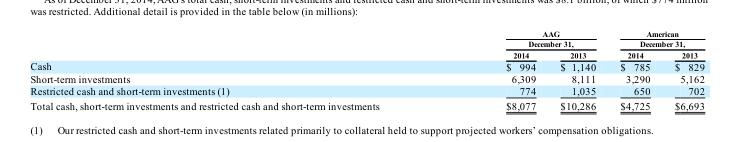table: (29, 28, 703, 110)
table column: (29, 28, 442, 110), (442, 28, 547, 110), (547, 28, 607, 110), (607, 28, 661, 110), (661, 28, 703, 110)
table column header: (29, 28, 703, 59)
table row: (29, 28, 703, 49), (29, 59, 703, 72), (29, 84, 703, 97), (29, 97, 703, 110), (29, 72, 703, 84), (29, 49, 703, 59)
table spanning cell: (442, 28, 607, 49), (607, 28, 703, 49)
